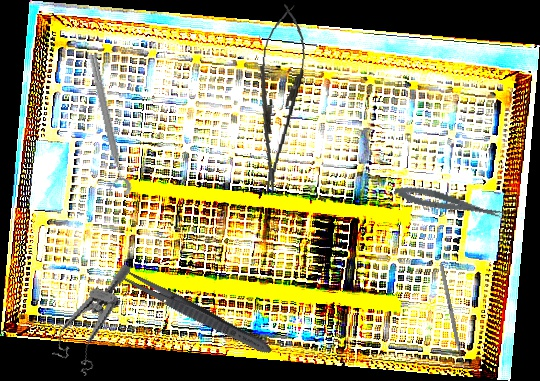Dressing Forceps: (111, 264, 276, 359)
Fixation Ring: (77, 53, 133, 199)
Micro Scissor: (392, 180, 506, 227)
Needle Holder: (246, 2, 311, 199)
Pusher: (439, 264, 466, 372)
Speculum: (48, 252, 132, 380)
